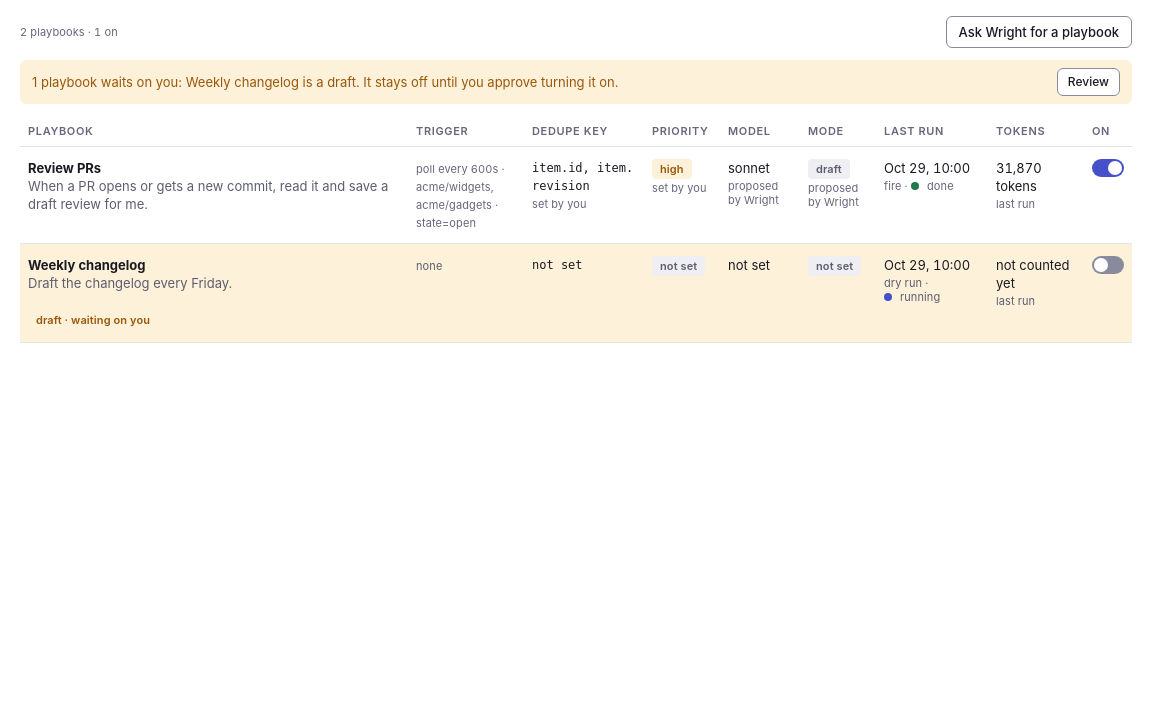
Test: AC5: a field edit is one /set, and nothing changes until the kernel answers › sends one {field, value}, holds the editor's text while it is pending, and shows only what the kernel answered
The image size is (1152, 720).
Click the button with test id "playbook-open" that starts with "Review PRs" at (214, 186), box [28, 159, 400, 213]
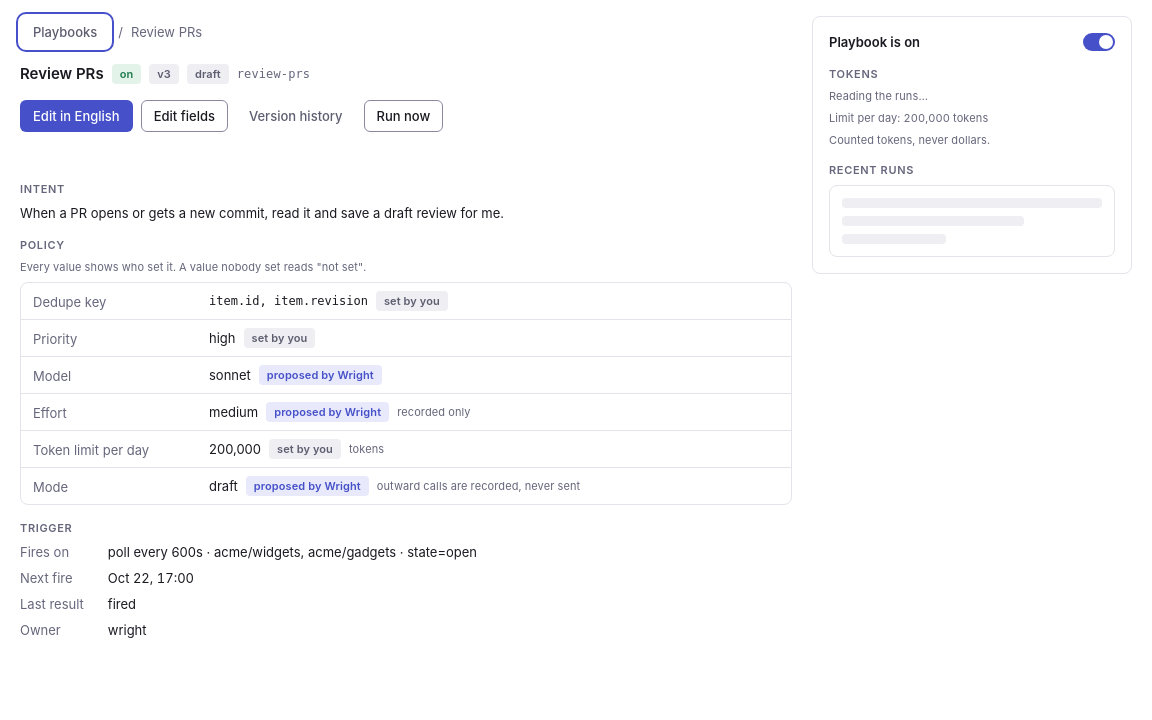
Now the element with test id "playbook-detail" is shown
Click the button with test id "playbook-edit-fields" at (184, 116), box [141, 100, 228, 132]
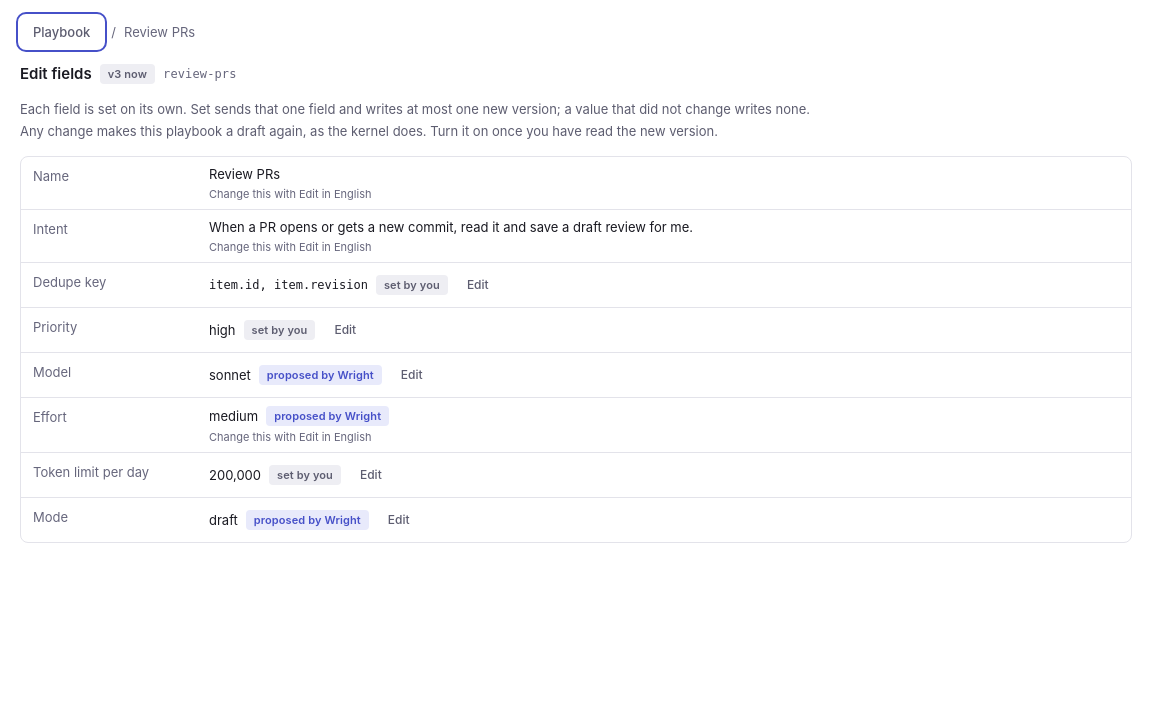
Now the element with test id "playbook-edit" is shown
Now the text "v3 now" is shown, box [100, 64, 155, 84]
Click the button with aria-label "Edit priority" at (345, 330), box [323, 316, 367, 344]
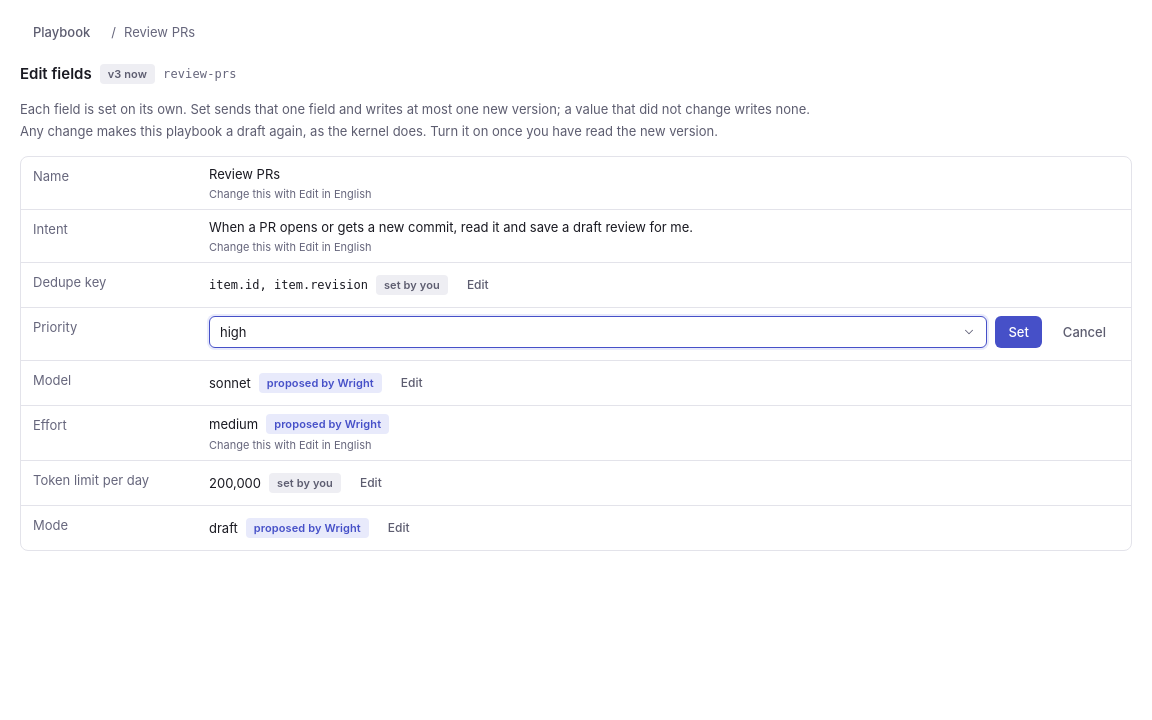
Select "low" in the dropdown named "New priority" at (598, 332), box [220, 317, 976, 347]
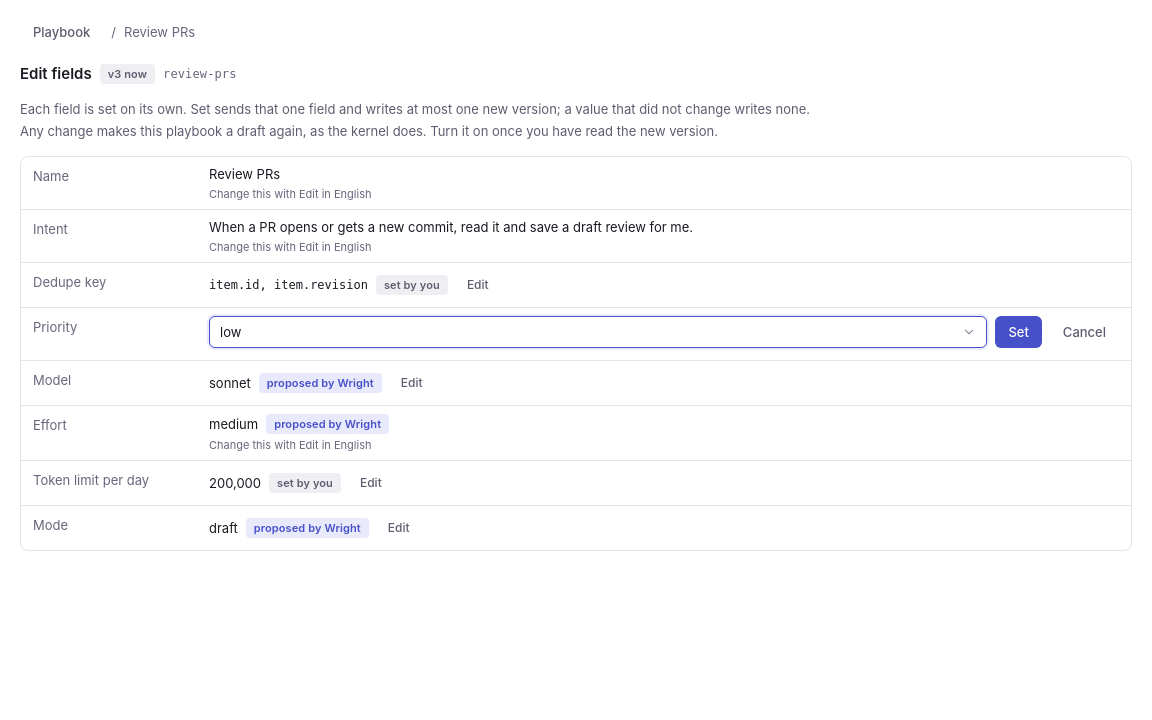
Submit the form named "Set priority", box [209, 316, 1119, 352]
Submit the form named "Set priority", box [209, 316, 1119, 352]
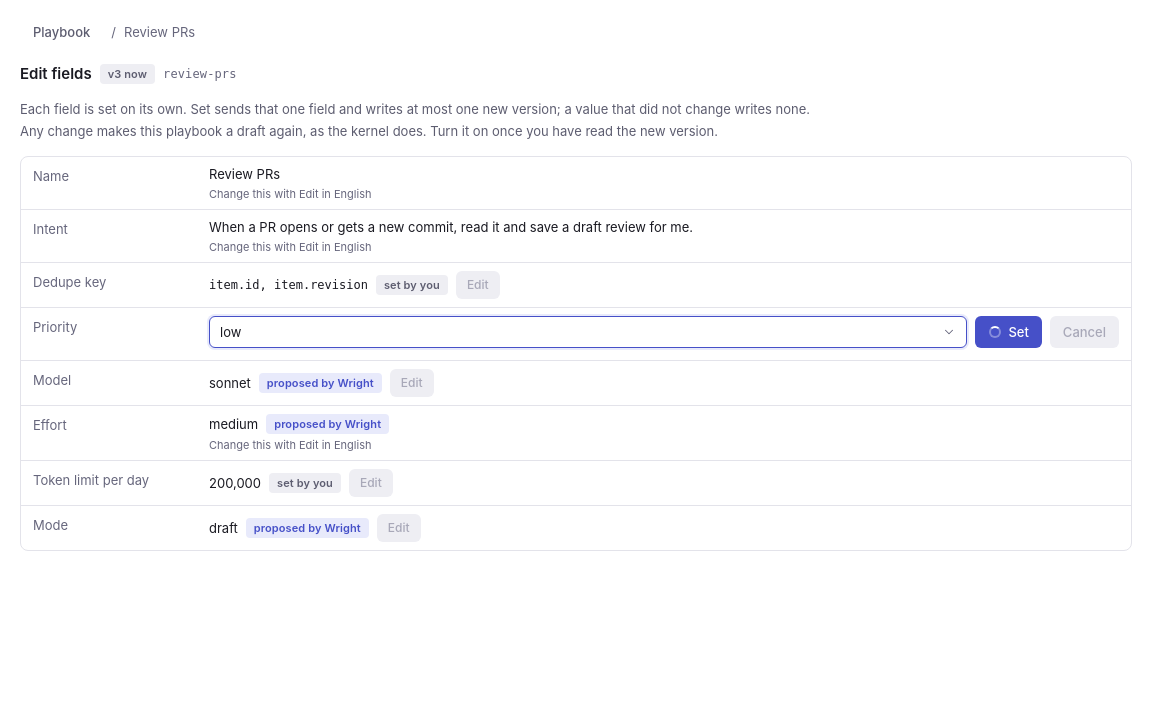
Select "normal" in the dropdown named "New priority" at (588, 332), box [220, 317, 956, 347]
Now the button "Cancel" is disabled, box [1050, 316, 1119, 348]
Press Escape in the dropdown named "New priority", box [220, 317, 956, 347]
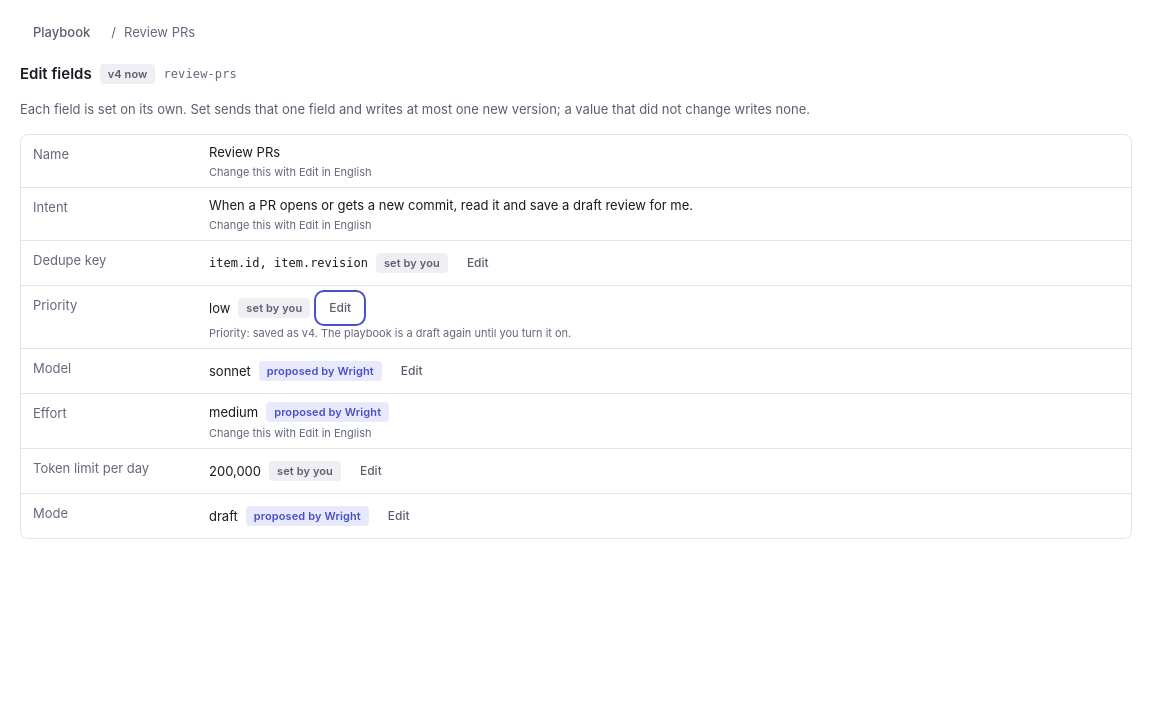
Now the message with test id "playbook-field-status" shows "Priority: saved as v4.", box [209, 326, 571, 340]
Now the text "v4 now" is shown, box [100, 64, 155, 84]
Now the text "low" is shown, box [209, 299, 230, 317]
